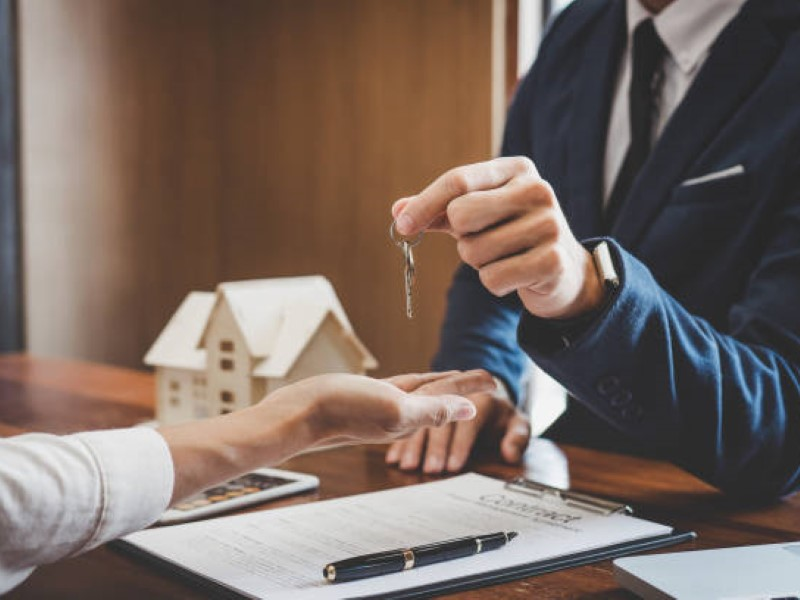key: (395, 235, 420, 323)
